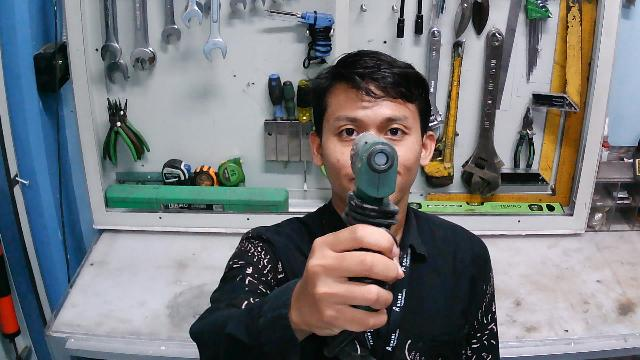gun_lem: (332, 131, 407, 297)
